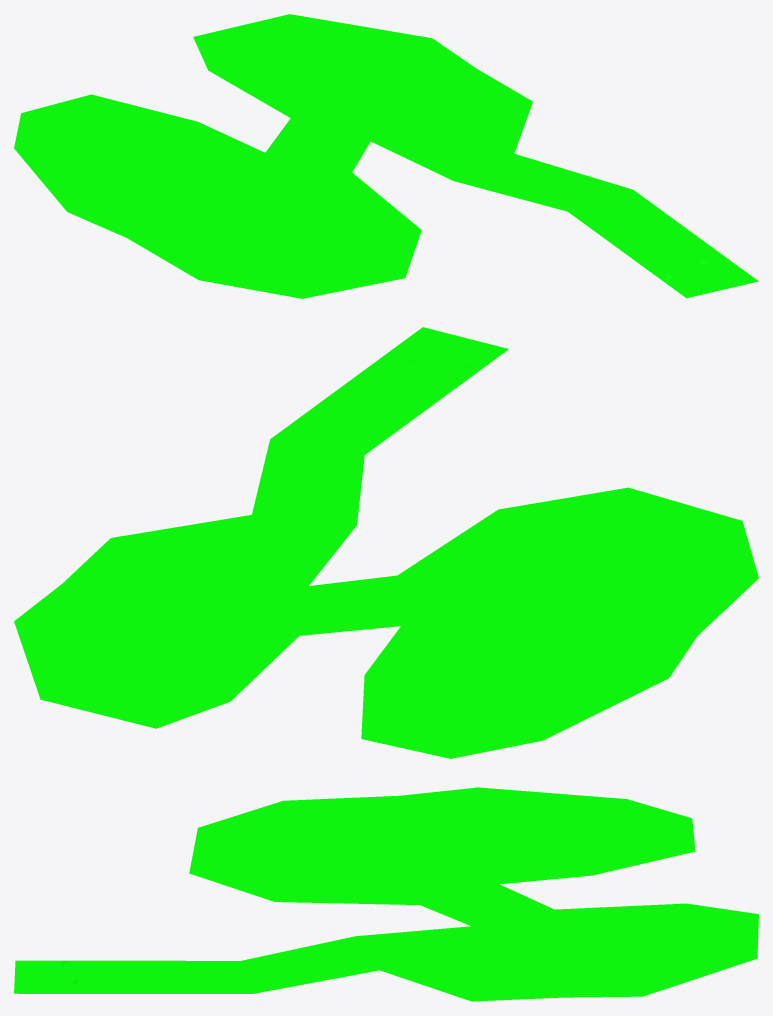
The model's file is s03b_nc2-floor.glb.
3 views of the same model, one above another, from view 1: azimuth 30°, elevation 25°; view 2: azimuth 150°, elevation 25°; view 3: azimuth 270°, elevation 25° (orthographic). The views are drawn at different scales.
Visible parts, largest first — view 1: collision_floor-colonly; view 2: collision_floor-colonly; view 3: collision_floor-colonly.
Boxes of the visible parts, x1,y1,x2,y2 form: collision_floor-colonly: (14, 14, 758, 298); collision_floor-colonly: (14, 327, 758, 758); collision_floor-colonly: (14, 787, 758, 1001).
Size of the model in its own units: 38.49 by 0.4688 by 56.59.
